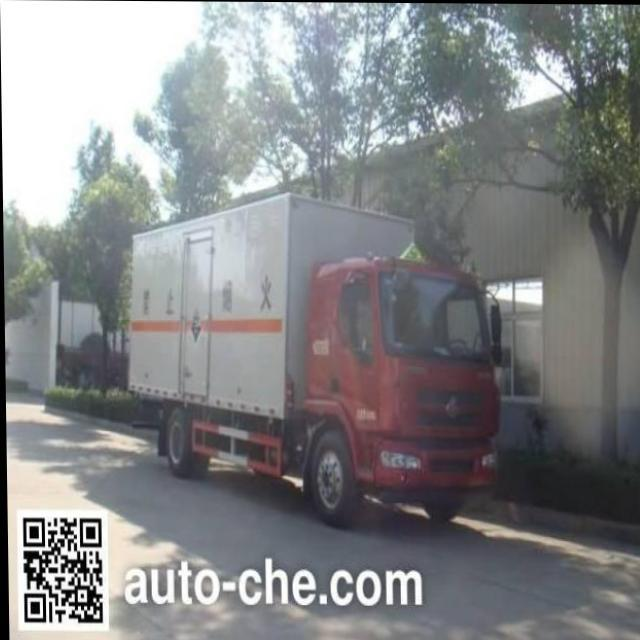covered: (115, 193, 479, 518)
